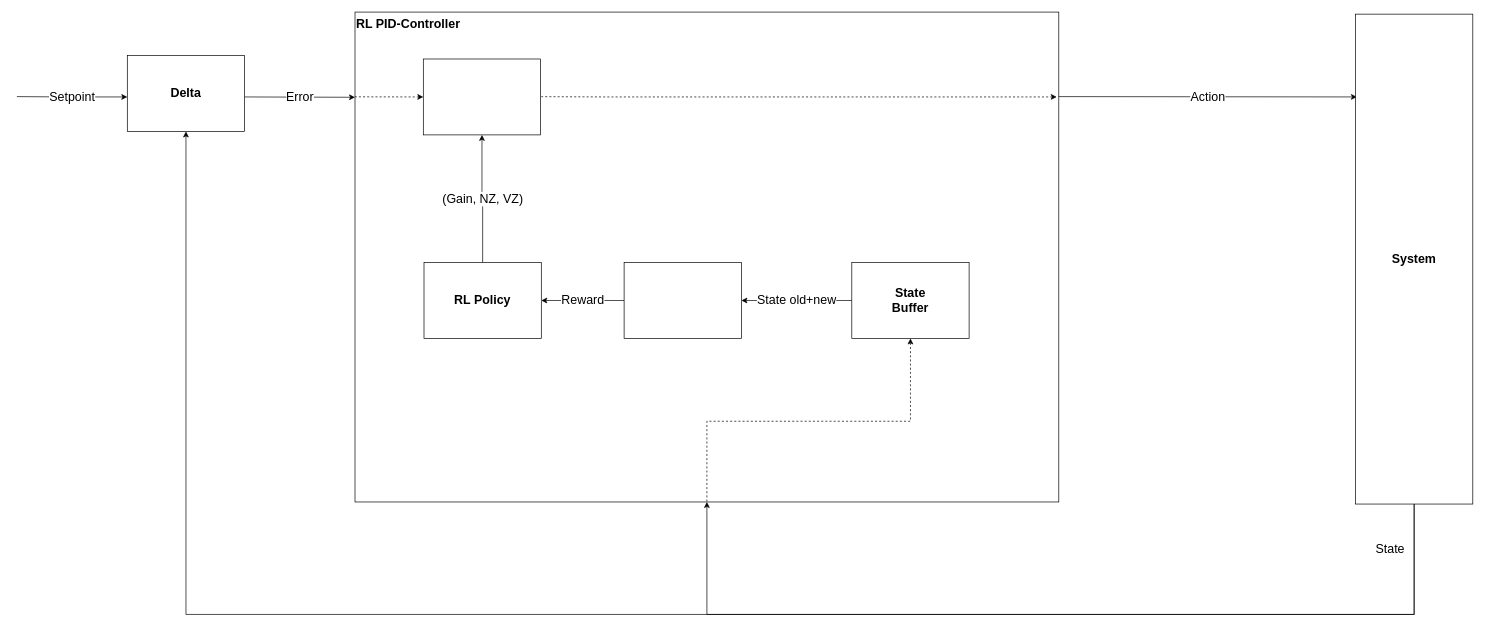
This 1485x632 diagram has some shape labels left out. The shapes that lost their labels are listed below. From the top down, each one's box as (x1, y1, x2, y2) in pixels, then its label:
(423, 58, 541, 135): PID-Controller
(623, 262, 741, 338): Reward Function
